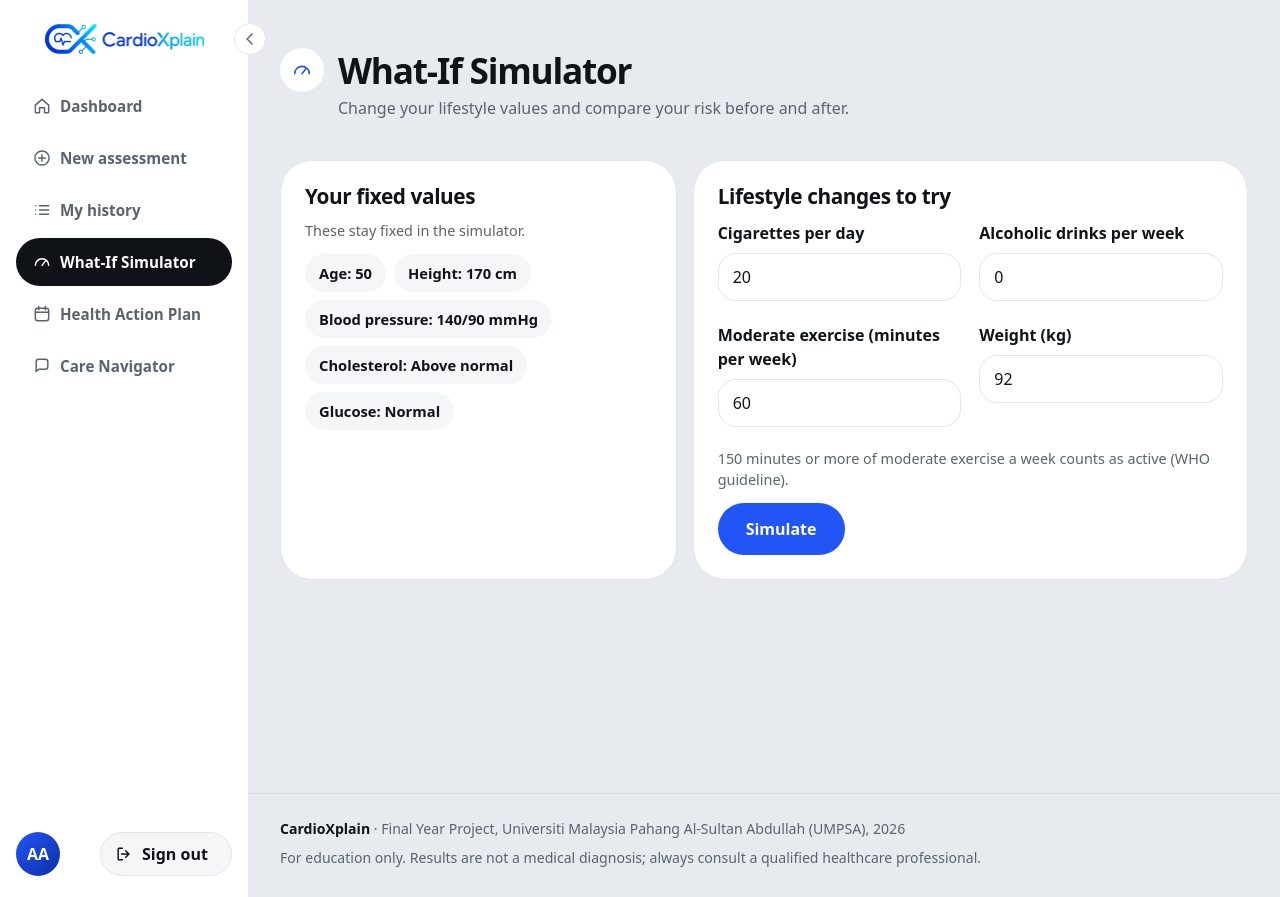
Test: simulator sends only changed fields and shows before and after
Replace the text in the number field labelled "Moderate exercise (minutes per week)" with "200": (840, 403) [718, 379, 961, 427]
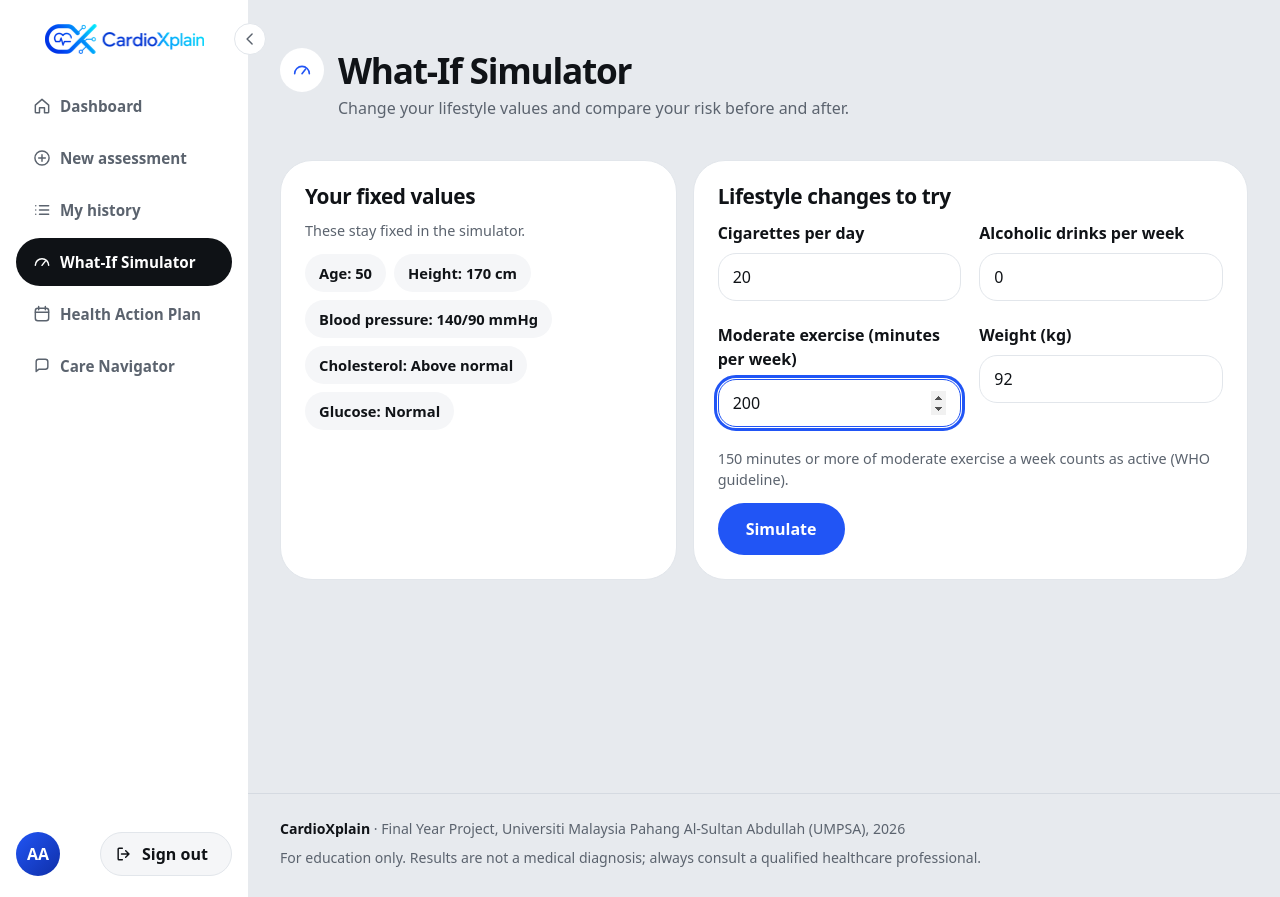
Click the button "Simulate": click(781, 529) [718, 503, 845, 555]
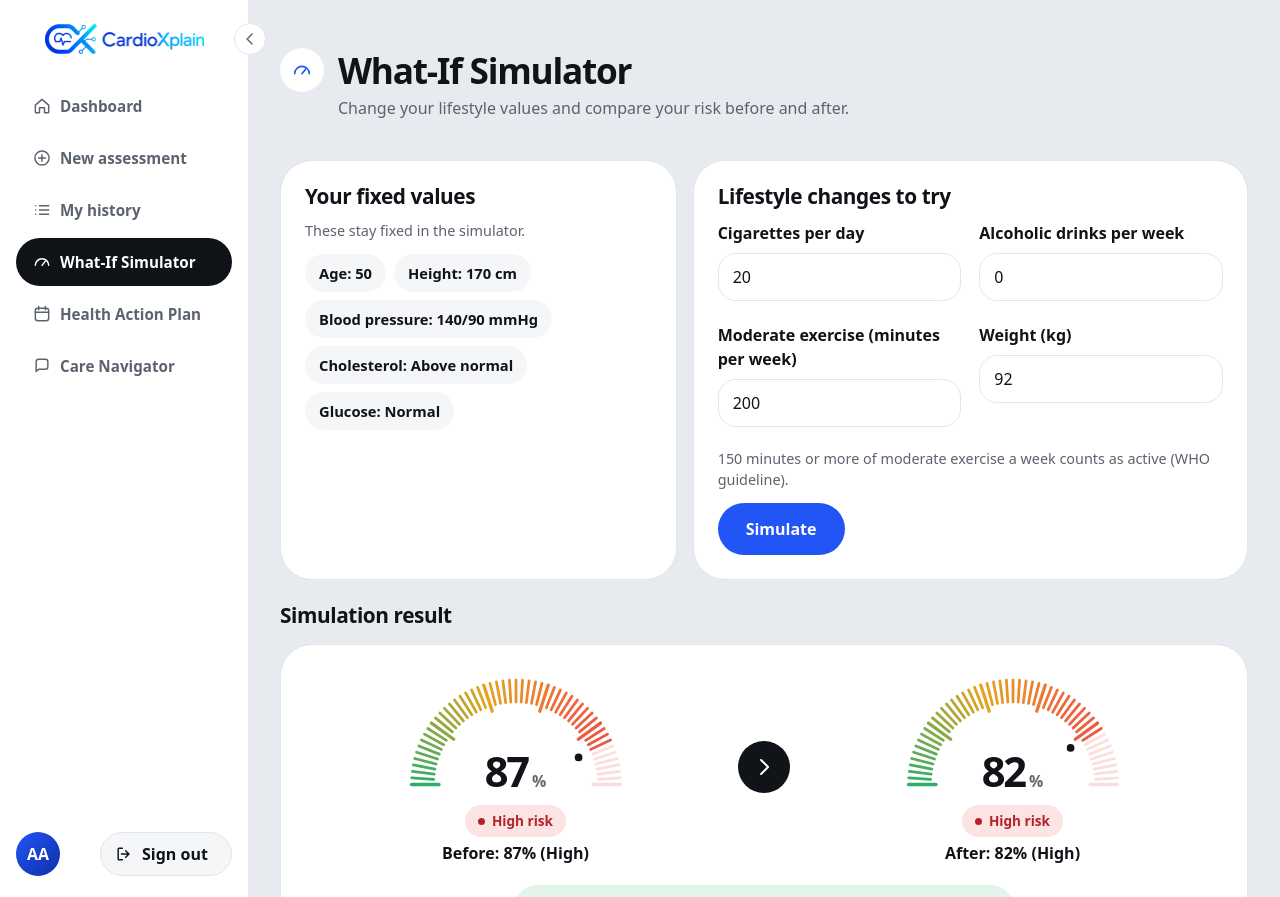
Now the text "Before: 87% (High)" is shown, box [442, 842, 589, 866]
Now the text "After: 82% (High)" is shown, box [945, 842, 1080, 866]
